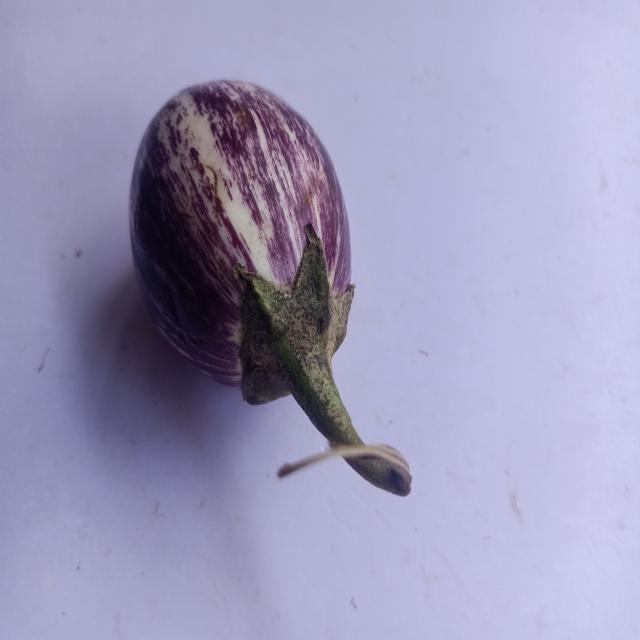Eggplant: (104, 56, 420, 538)
